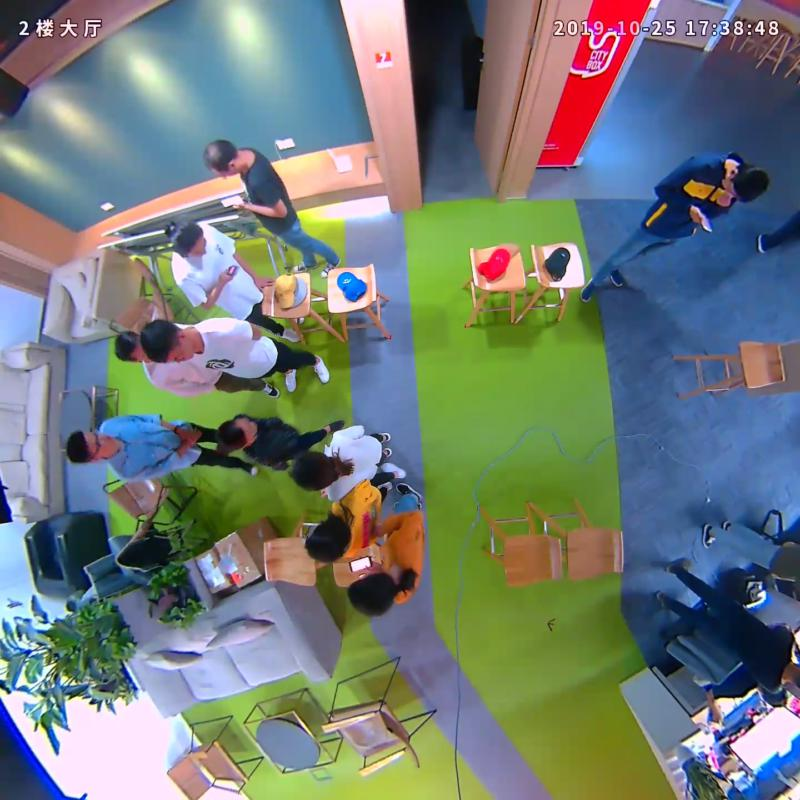head: (140, 319, 196, 364), (304, 517, 353, 563), (347, 571, 397, 616), (720, 162, 768, 205), (289, 451, 336, 491), (66, 430, 119, 465), (216, 415, 257, 453), (203, 139, 243, 175), (170, 221, 208, 258)
